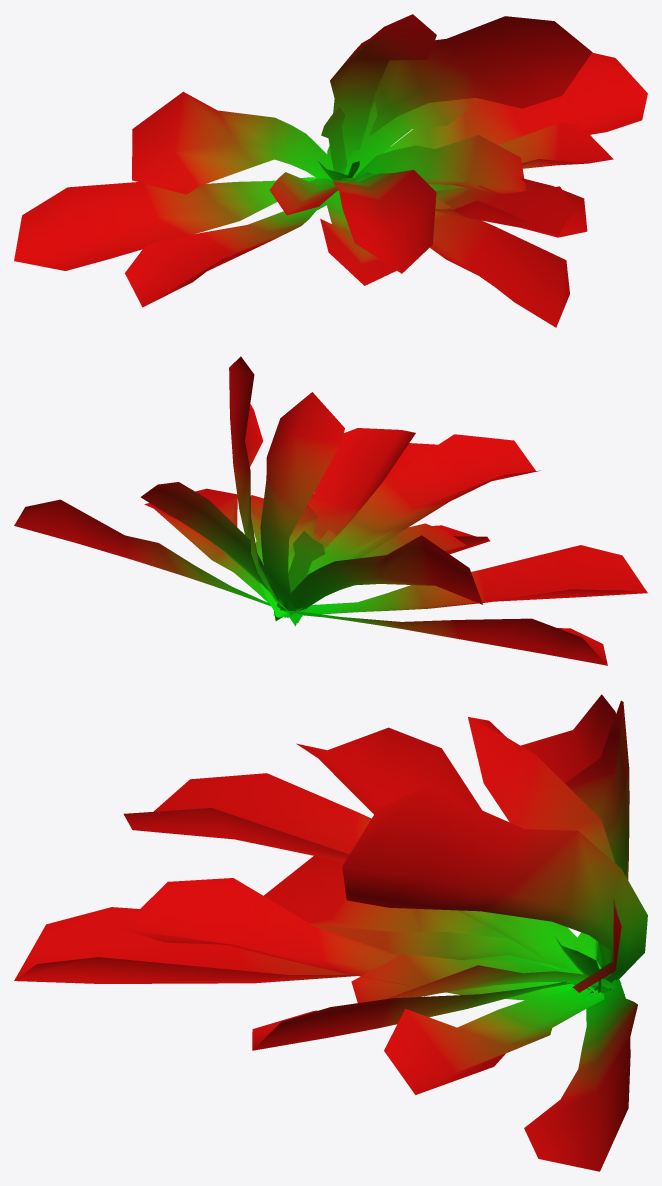
File: Var8_LOD0.fbx
3 views of the same model, one above another, from view 1: azimuth 30°, elevation 25°; view 2: azimuth 150°, elevation 25°; view 3: azimuth 270°, elevation 25° (orthographic). The views are drawn at different scales.
Parts seen in each view (by area): view 1: _l6rk_Var8_LOD0; view 2: _l6rk_Var8_LOD0; view 3: _l6rk_Var8_LOD0.
Boxes of the visible parts, x1,y1,x2,y2 form: _l6rk_Var8_LOD0: (14,14,647,327); _l6rk_Var8_LOD0: (14,356,647,665); _l6rk_Var8_LOD0: (14,694,647,1171).
Bounding box in the file's own units: 35.17 × 11.25 × 21.08.
